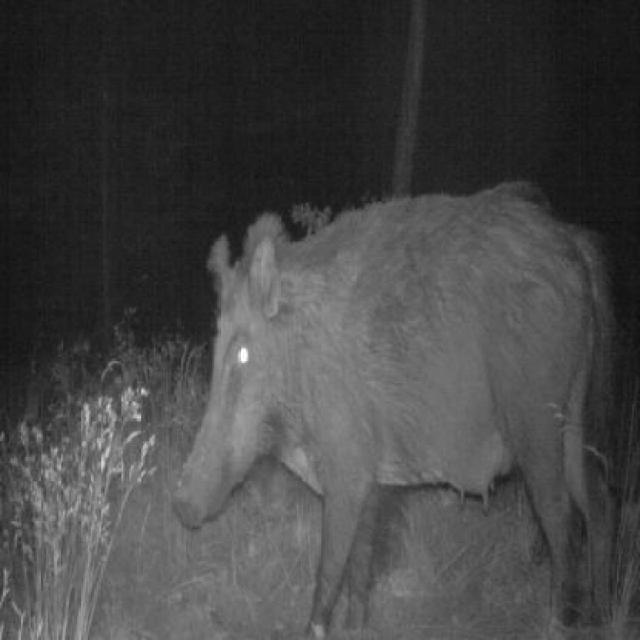Boar: (146, 120, 640, 568)
